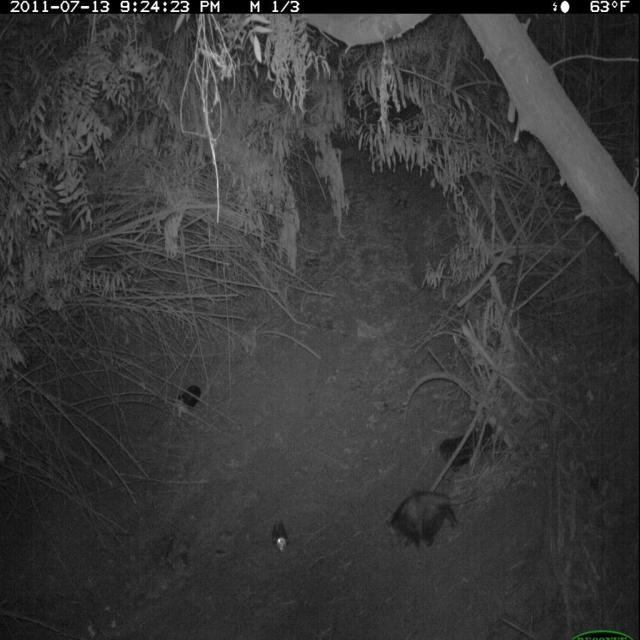opossum: (378, 484, 490, 552)
